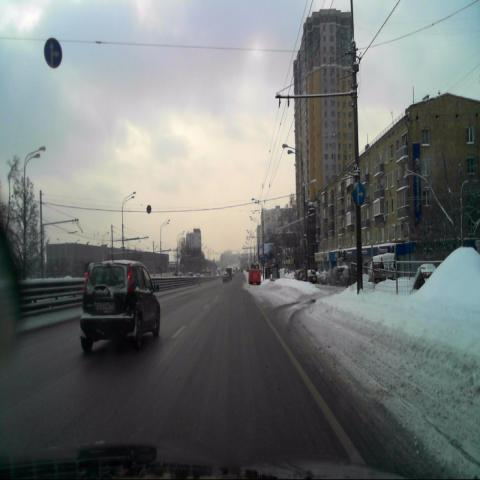4_1_4: (44, 37, 62, 71)
